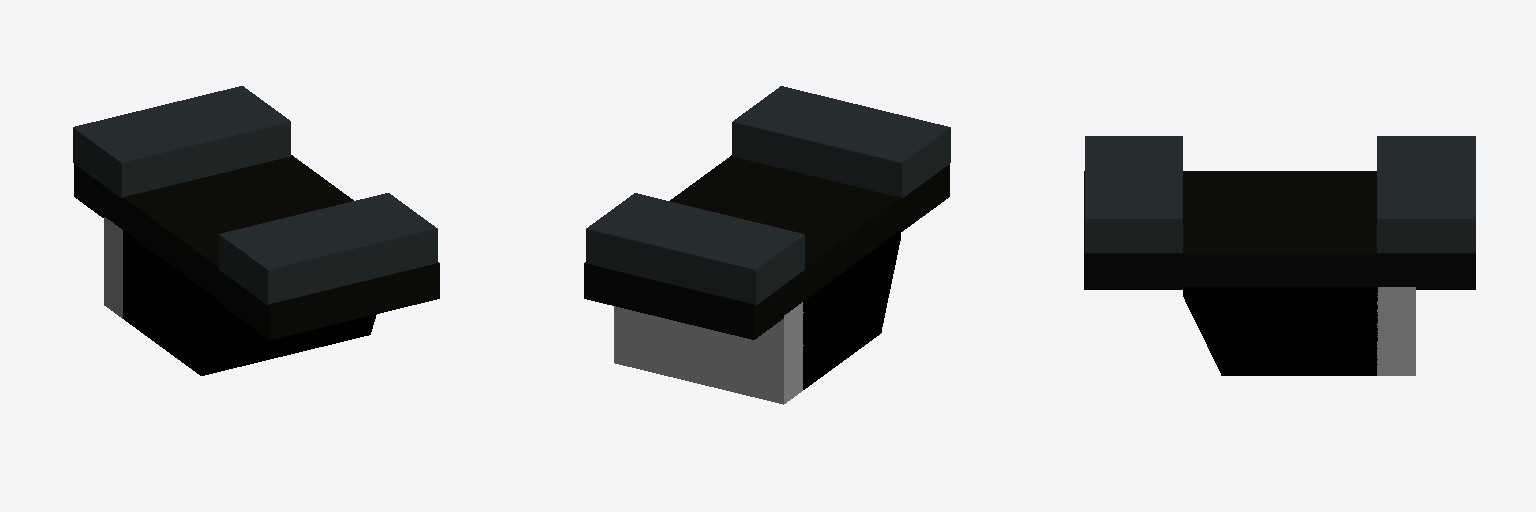
Rendered from engine.obj.
3 renders of one model, left to right at view 1: azimuth 30°, elevation 25°; view 2: azimuth 150°, elevation 25°; view 3: azimuth 270°, elevation 25°, orthographic.
Parts seen in each view (by area): view 1: Cube, Cube.001, Cube.002_Cube.003, Cube.006_Cube.007, Cube.004_Cube.005; view 2: Cube, Cube.002_Cube.003, Cube.001, Cube.004_Cube.005, Cube.006_Cube.007; view 3: Cube, Cube.006_Cube.007, Cube.002_Cube.003, Cube.001, Cube.004_Cube.005.
Part boxes in pixels (x1,y1,x2,y2): Cube: (74,155,439,339); Cube.001: (219,193,437,304); Cube.002_Cube.003: (73,86,290,197); Cube.006_Cube.007: (123,231,376,375); Cube.004_Cube.005: (104,217,122,318); Cube: (584,155,949,339); Cube.002_Cube.003: (586,193,804,305); Cube.001: (732,86,950,198); Cube.004_Cube.005: (614,302,803,404); Cube.006_Cube.007: (803,231,900,389); Cube: (1084,171,1475,289); Cube.006_Cube.007: (1183,287,1377,375); Cube.002_Cube.003: (1377,136,1475,252); Cube.001: (1085,136,1182,252); Cube.004_Cube.005: (1377,287,1415,375).
Size of the model in its own units: 16.14 by 14.08 by 32.